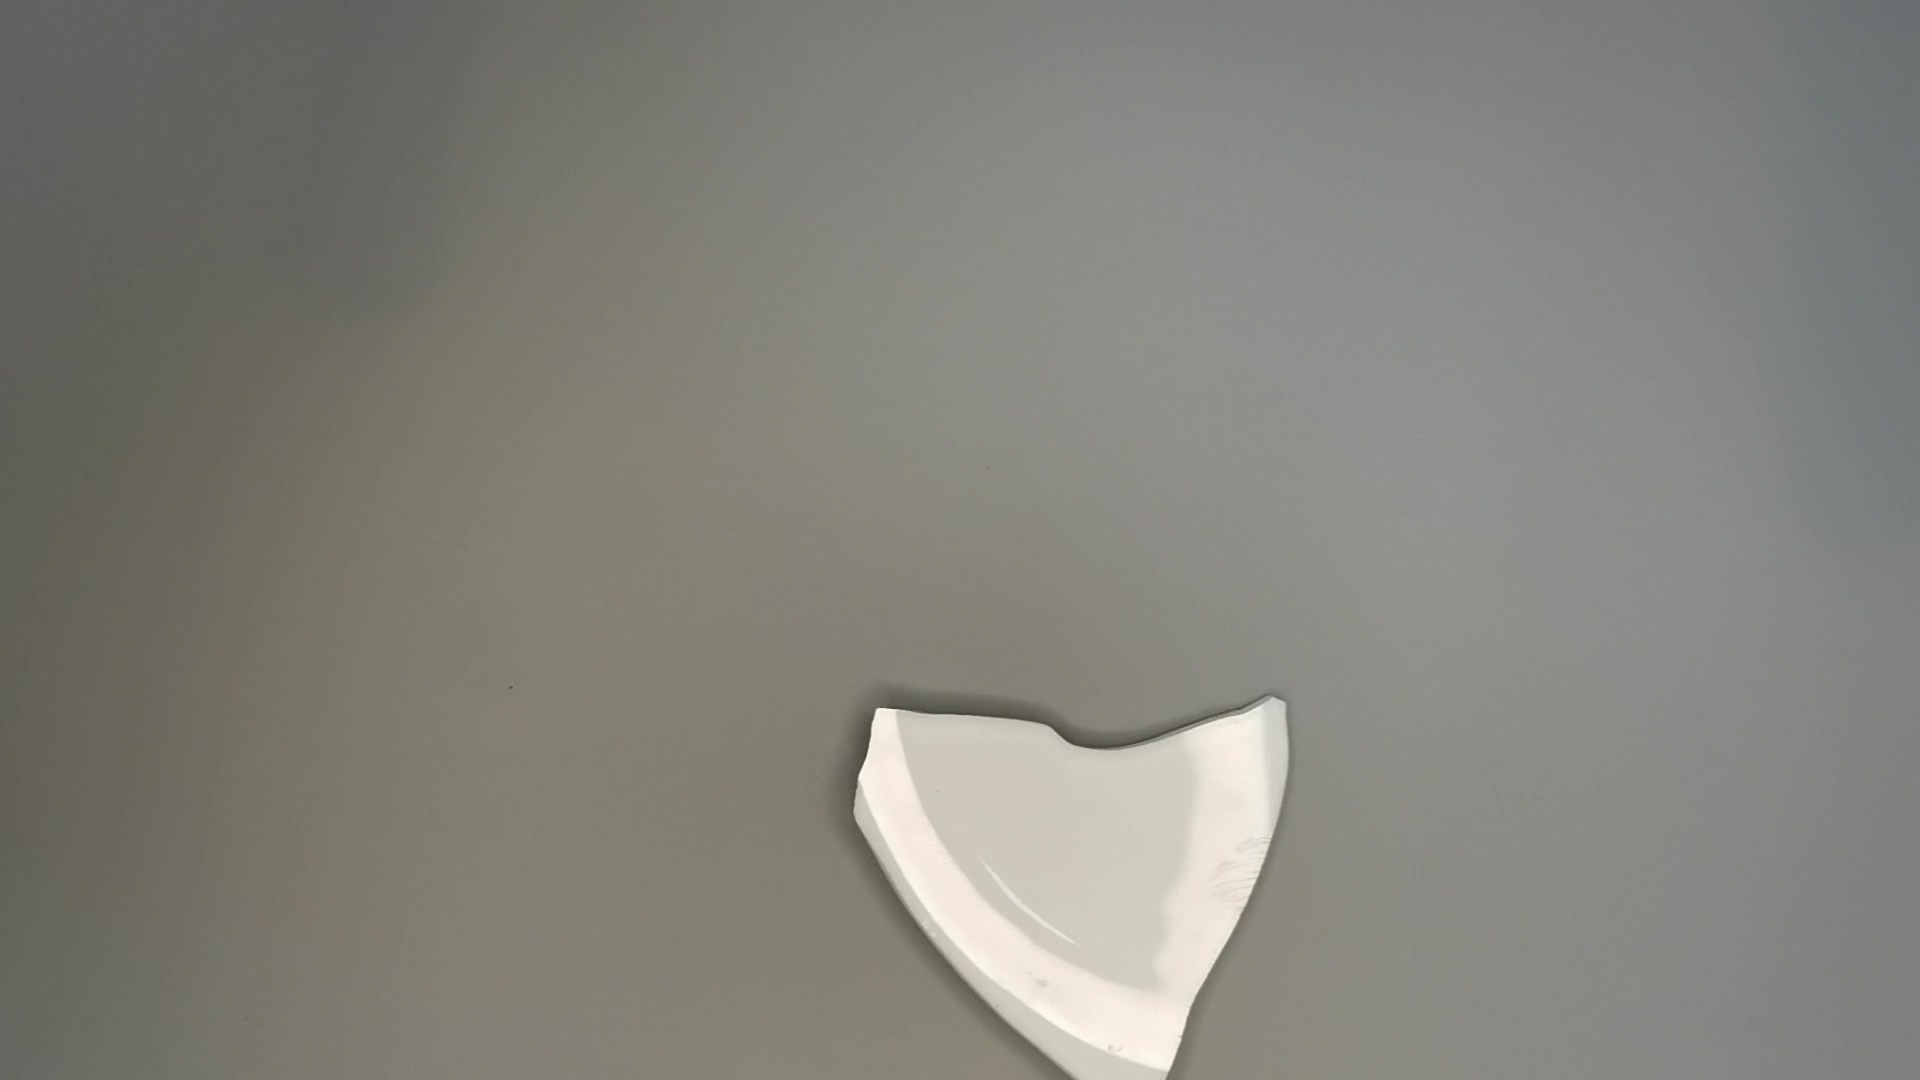ceramic: (841, 686, 1312, 1080)
